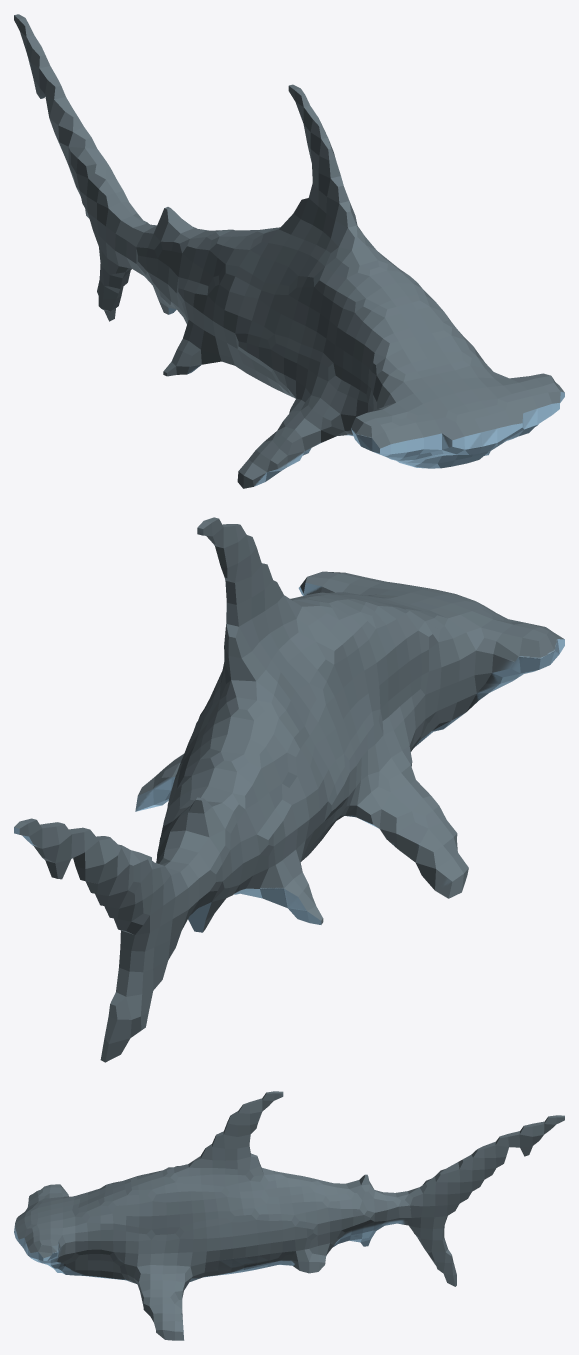
The model's file is hammerheadMorph.glb.
3 renders of one model, top to bottom at view 1: azimuth 30°, elevation 25°; view 2: azimuth 150°, elevation 25°; view 3: azimuth 270°, elevation 25°, orthographic. The views are drawn at different scales.
Visible parts, largest first — view 1: Mesh_0; view 2: Mesh_0; view 3: Mesh_0.
Boxes of the visible parts, left/top/right/bottom form: Mesh_0: left=14, top=14, right=564, bottom=488; Mesh_0: left=14, top=517, right=564, bottom=1062; Mesh_0: left=14, top=1091, right=564, bottom=1340.
Size of the model in its own units: 0.4168 by 0.4938 by 1.17.
Materials: 1 (1 with a texture image).
